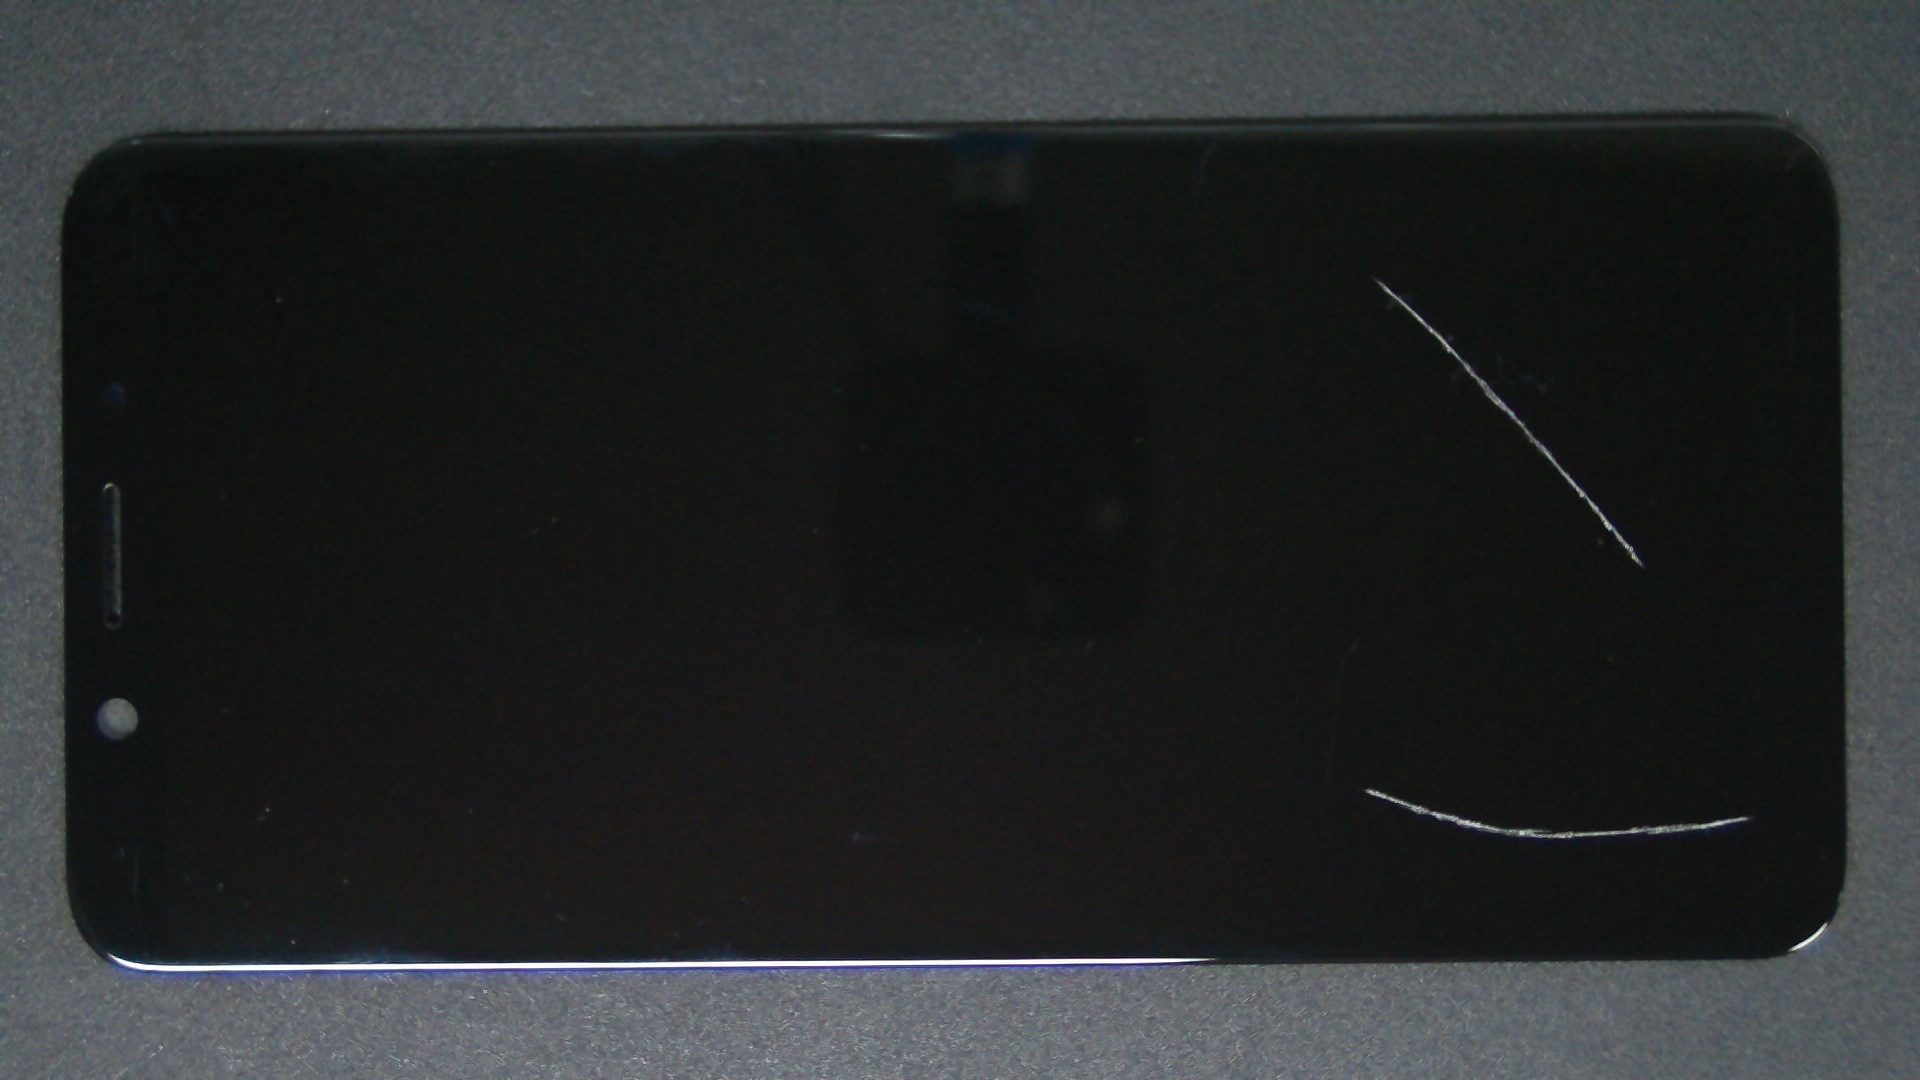oil: (684, 393, 1920, 1080), (688, 138, 1920, 421)
